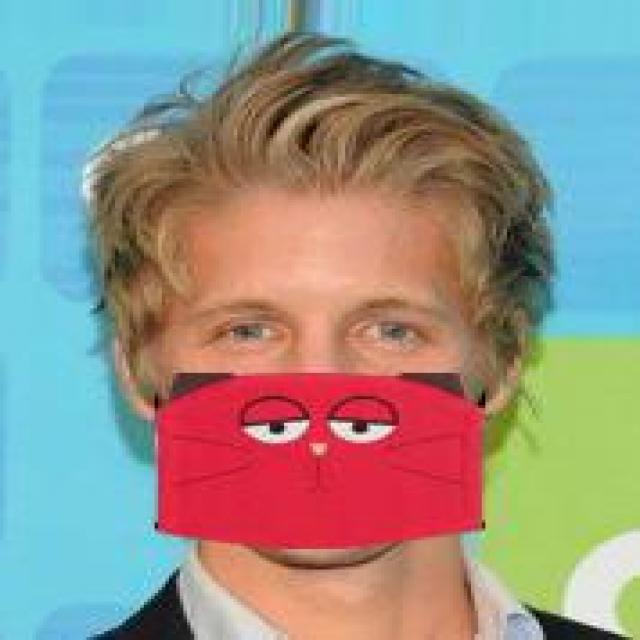mask: (40, 50, 582, 581)
